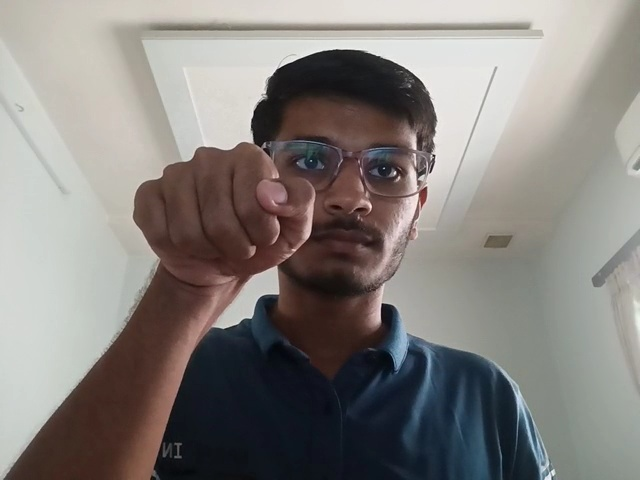Yes: (118, 140, 323, 300)
